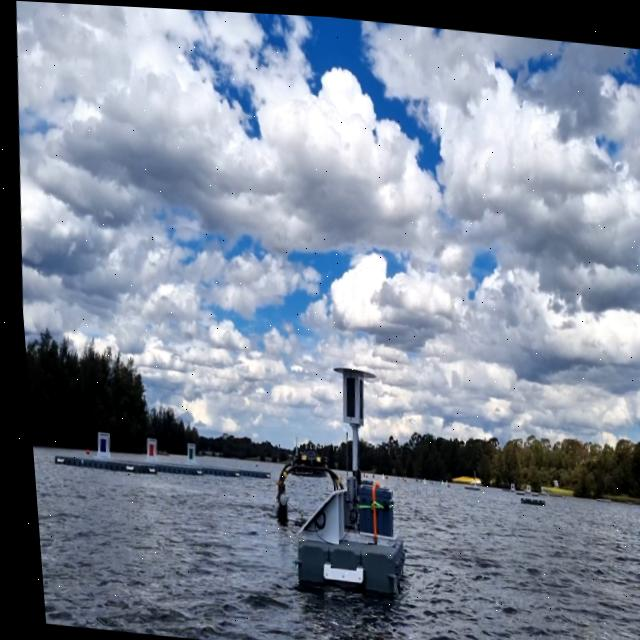led: (336, 371, 354, 418)
